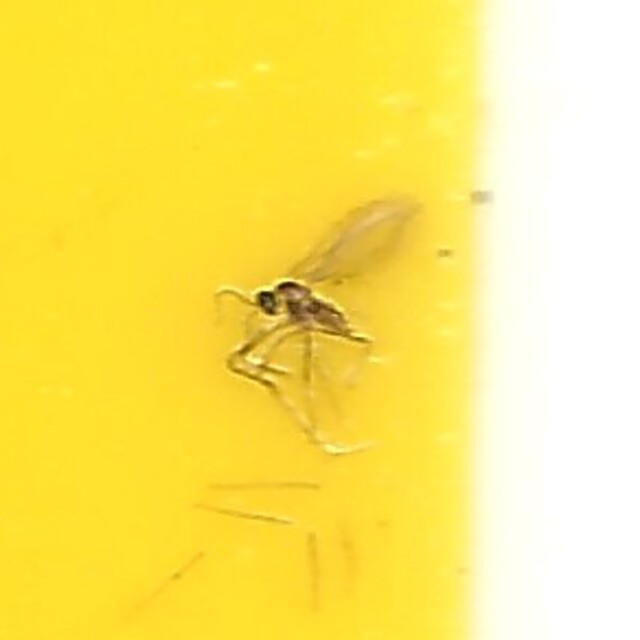Nematocera: (219, 192, 421, 448)
